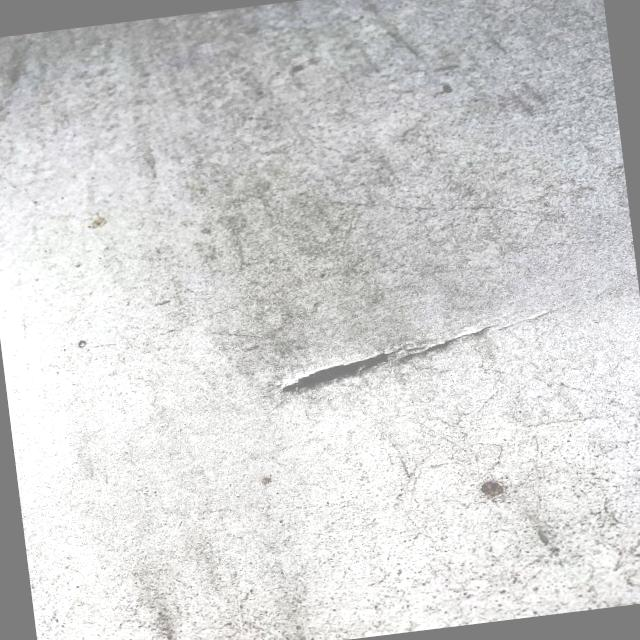crack: (295, 320, 499, 399)
